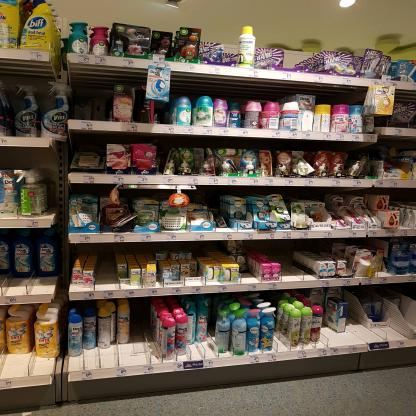Void: (369, 290, 407, 337), (74, 78, 108, 122), (134, 301, 154, 355), (4, 148, 55, 164), (97, 248, 115, 286), (84, 350, 118, 366), (72, 136, 102, 154), (393, 191, 413, 203)
